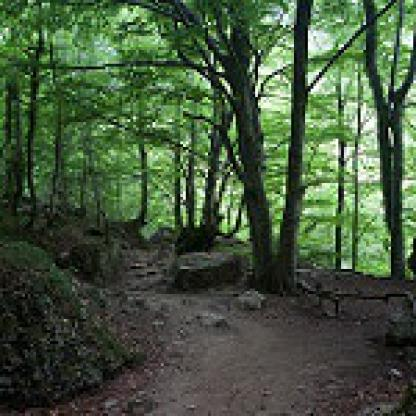road: (91, 225, 372, 413)
trunk: (222, 3, 280, 288), (361, 0, 413, 286), (277, 0, 319, 289), (327, 92, 347, 274), (25, 61, 44, 222), (350, 100, 366, 277), (50, 116, 66, 216), (183, 125, 197, 236), (166, 150, 183, 236), (136, 150, 152, 227)
